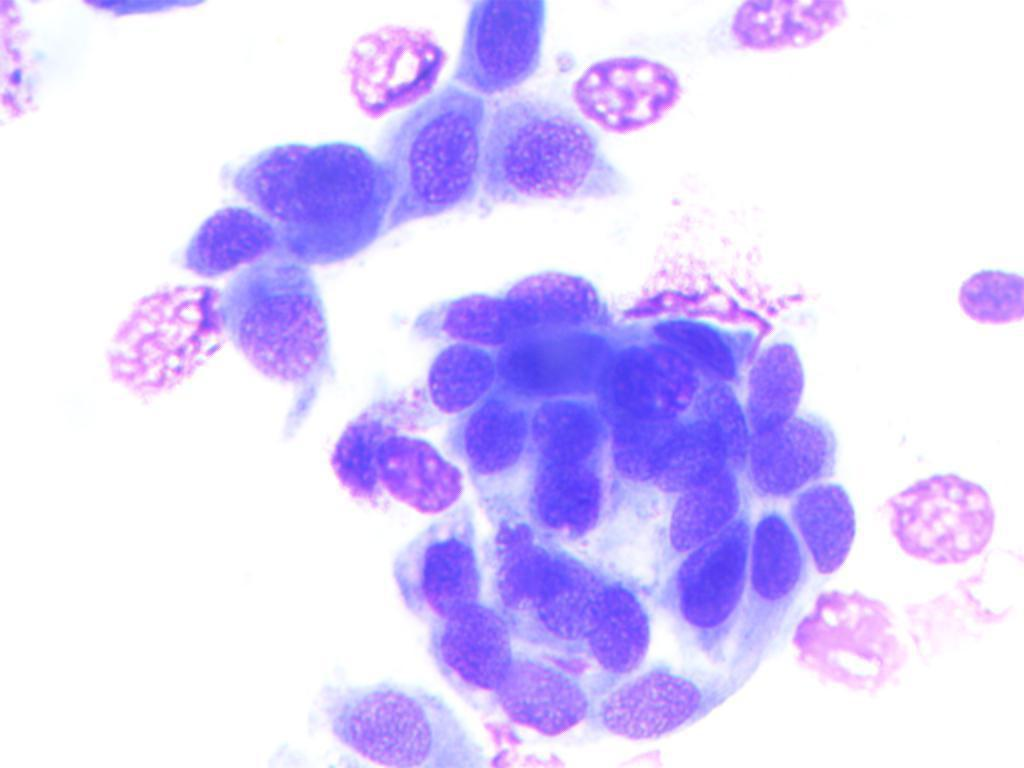epithelial: (98, 282, 229, 401), (226, 132, 390, 225), (877, 456, 998, 582), (329, 24, 458, 116), (228, 261, 326, 382), (318, 670, 436, 766), (666, 525, 753, 650), (488, 323, 625, 401), (398, 101, 483, 224), (527, 539, 623, 644), (606, 315, 707, 412), (419, 601, 524, 693), (400, 275, 522, 351), (566, 53, 680, 134), (495, 111, 593, 203), (656, 466, 756, 556), (525, 443, 609, 543), (462, 0, 546, 99), (576, 568, 651, 674), (491, 654, 585, 738), (593, 672, 707, 741), (943, 260, 1024, 352), (729, 1, 856, 59), (402, 539, 496, 617), (749, 413, 827, 501), (493, 520, 569, 610), (500, 270, 603, 336), (789, 479, 858, 577), (635, 421, 728, 493), (381, 430, 464, 510), (177, 205, 272, 274), (747, 330, 806, 433), (316, 409, 384, 498), (529, 393, 608, 468), (610, 401, 681, 482), (747, 512, 799, 622), (461, 395, 531, 474), (414, 343, 497, 409)
